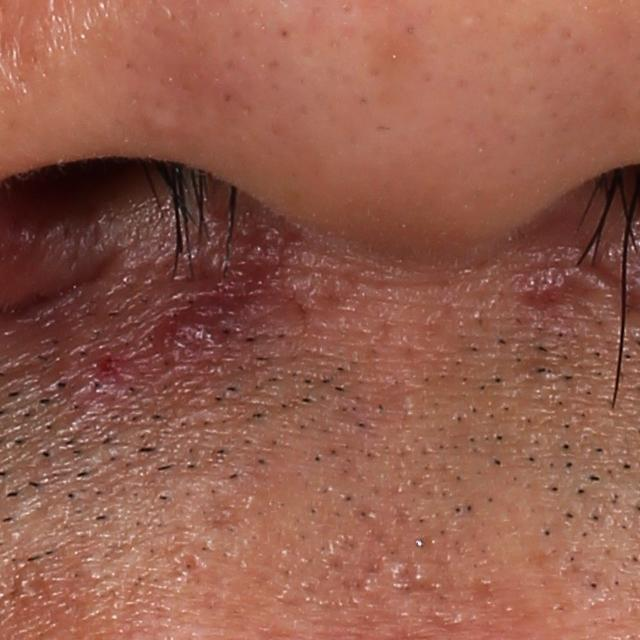papule: (152, 303, 226, 364)
